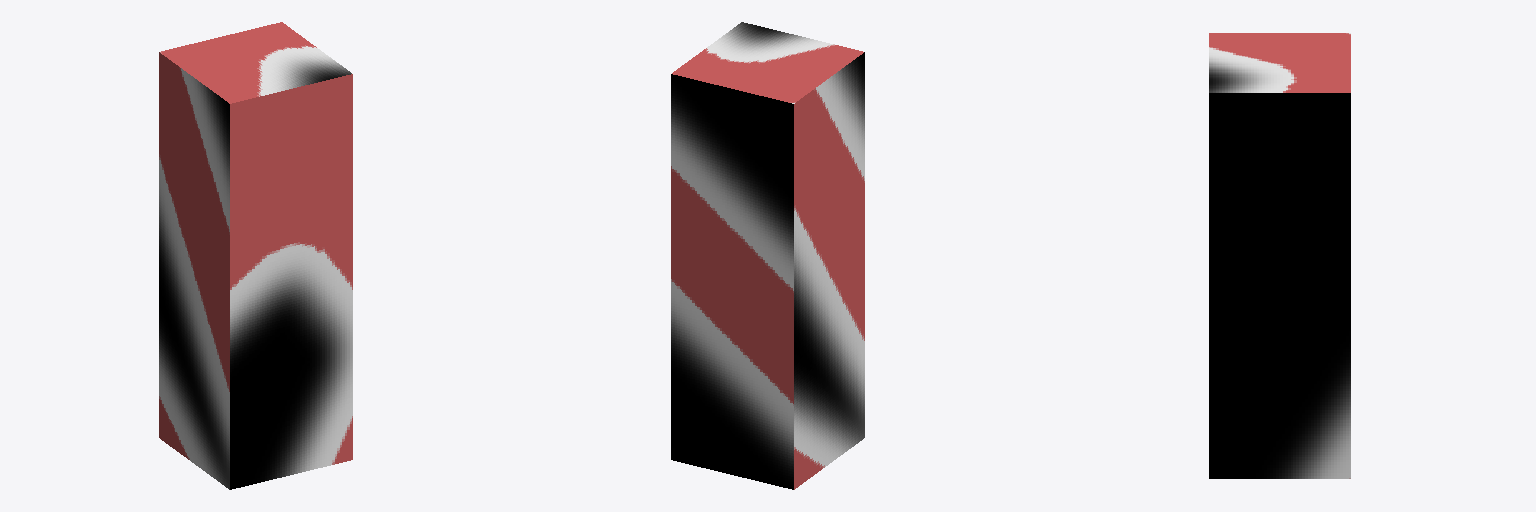
3 views of the same model, side by side, from view 1: azimuth 30°, elevation 25°; view 2: azimuth 150°, elevation 25°; view 3: azimuth 270°, elevation 25° (orthographic).
Parts seen in each view (by area): view 1: 右前腕; view 2: 右前腕; view 3: 右前腕.
Boxes of the visible parts, x1=… form: 右前腕: x1=159, y1=22, x2=352, y2=489; 右前腕: x1=671, y1=22, x2=864, y2=489; 右前腕: x1=1209, y1=33, x2=1350, y2=478.
Size of the model in its own units: 3 by 9 by 3.
Materials: 1 (1 with a texture image).